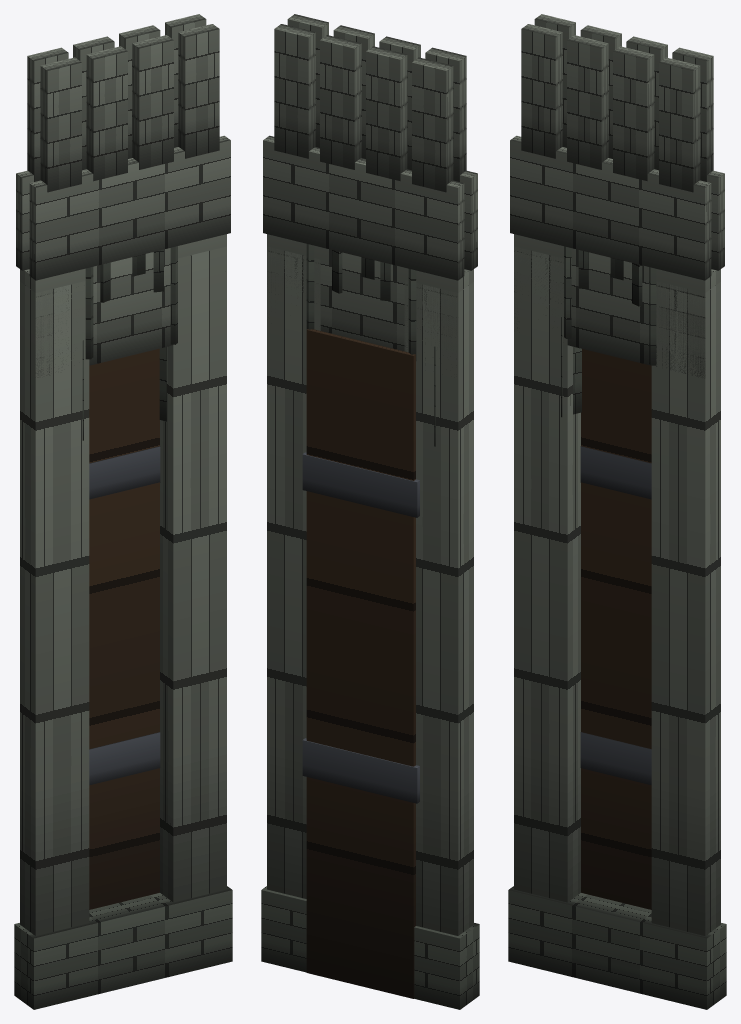
Rendered from wall_gate_arch.gltf.
The picture shows the model from 3 angles, left to right: view 1: azimuth 30°, elevation 25°; view 2: azimuth 150°, elevation 25°; view 3: azimuth 330°, elevation 25°; orthographic projection.
Visible parts, largest first — view 1: wall_gate_arch; view 2: wall_gate_arch; view 3: wall_gate_arch.
Boxes of the visible parts, x1=… form: wall_gate_arch: x1=14, y1=14, x2=232, y2=1009; wall_gate_arch: x1=261, y1=14, x2=479, y2=1009; wall_gate_arch: x1=508, y1=14, x2=726, y2=1009.
Bounding box in the file's own units: 0.2912 × 1.31 × 0.053.
1 material, 1 textured.
